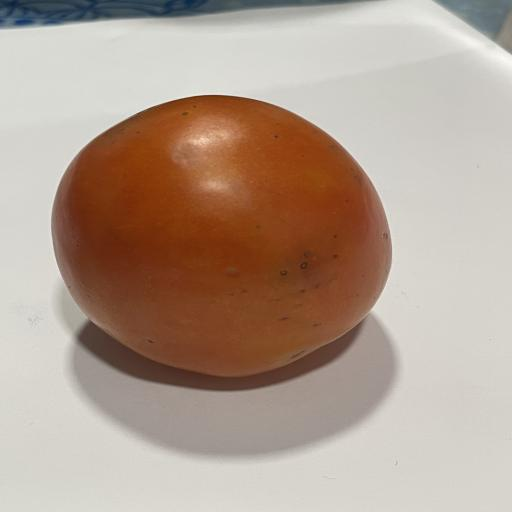unripe: (52, 95, 391, 376)
